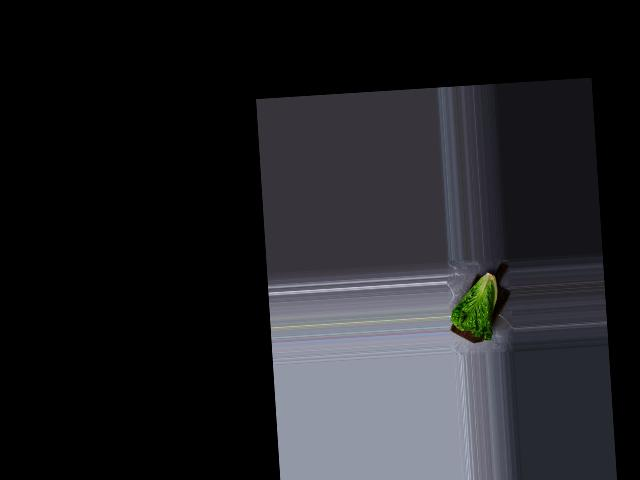lettuce: (448, 268, 508, 342)
